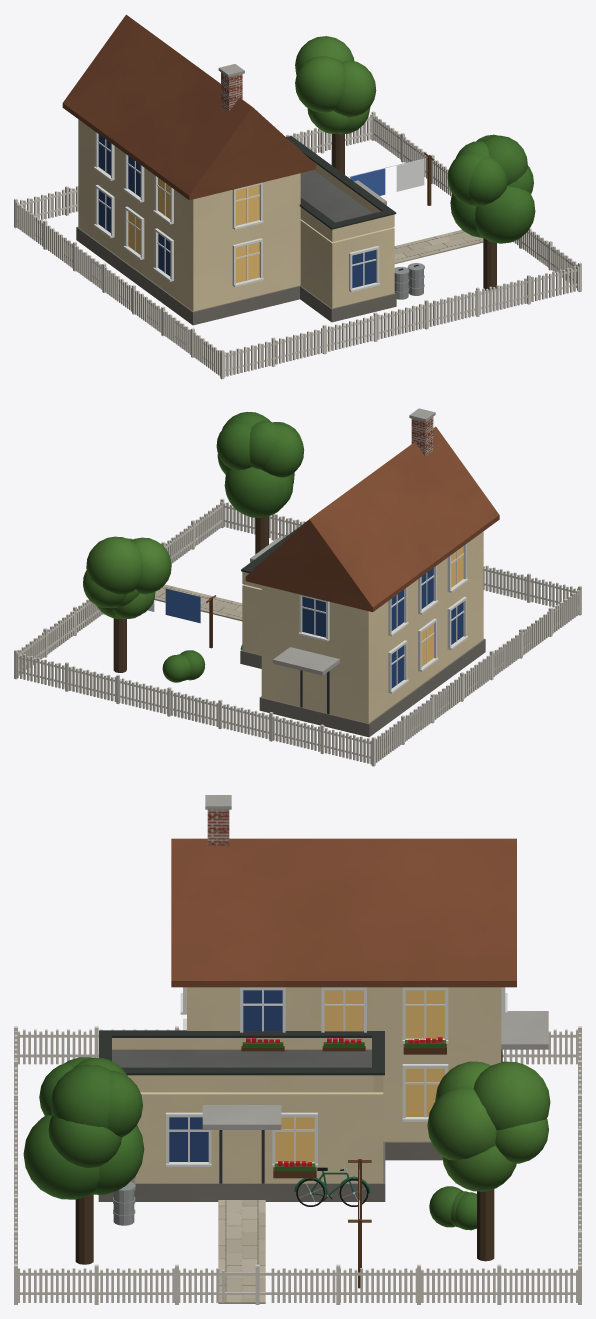
Rendered from dum_1a_domy_0.glb.
3 renders of one model, top to bottom at view 1: azimuth 30°, elevation 25°; view 2: azimuth 150°, elevation 25°; view 3: azimuth 270°, elevation 25°, orthographic. The views are drawn at different scales.
Visible parts, largest first — view 1: dum, noc; view 2: dum, noc; view 3: dum, noc.
Boxes of the visible parts, <box> form: dum: <box>14,14,581,379</box>; noc: <box>128,178,259,282</box>; dum: <box>14,408,581,766</box>; noc: <box>421,546,463,666</box>; dum: <box>14,795,581,1304</box>; noc: <box>275,990,444,1162</box>.
Bounding box in the file's own units: 14.41 × 9.14 × 14.41.
Materials: 1 (1 with a texture image).
